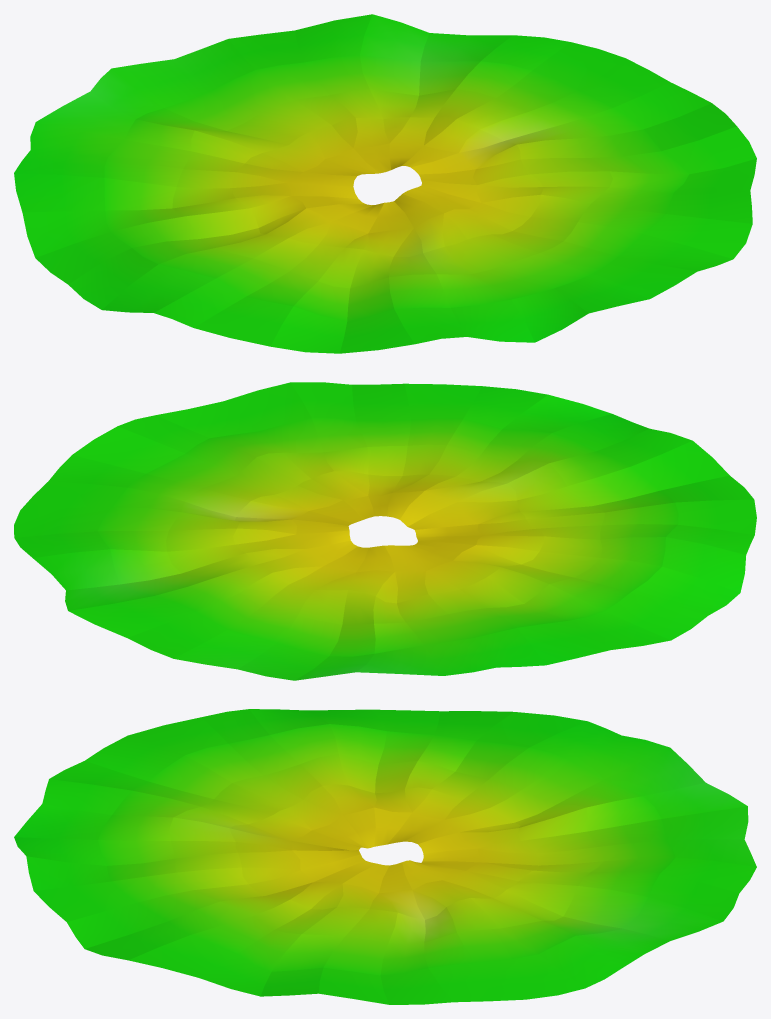
The model's file is E3D-Disk35.fbx.
The picture shows the model from 3 angles, top to bottom: view 1: azimuth 30°, elevation 25°; view 2: azimuth 150°, elevation 25°; view 3: azimuth 270°, elevation 25°; orthographic projection. The views are drawn at different scales.
Visible parts, largest first — view 1: skill_1071_qisihuisheng_Animator_01; view 2: skill_1071_qisihuisheng_Animator_01; view 3: skill_1071_qisihuisheng_Animator_01.
Boxes of the visible parts, box(x1,y1,x2,y2) form: skill_1071_qisihuisheng_Animator_01: box(14, 14, 756, 353); skill_1071_qisihuisheng_Animator_01: box(14, 382, 756, 680); skill_1071_qisihuisheng_Animator_01: box(14, 709, 756, 1004).
Size of the model in its own units: 91.47 by 3.02 by 92.37.
